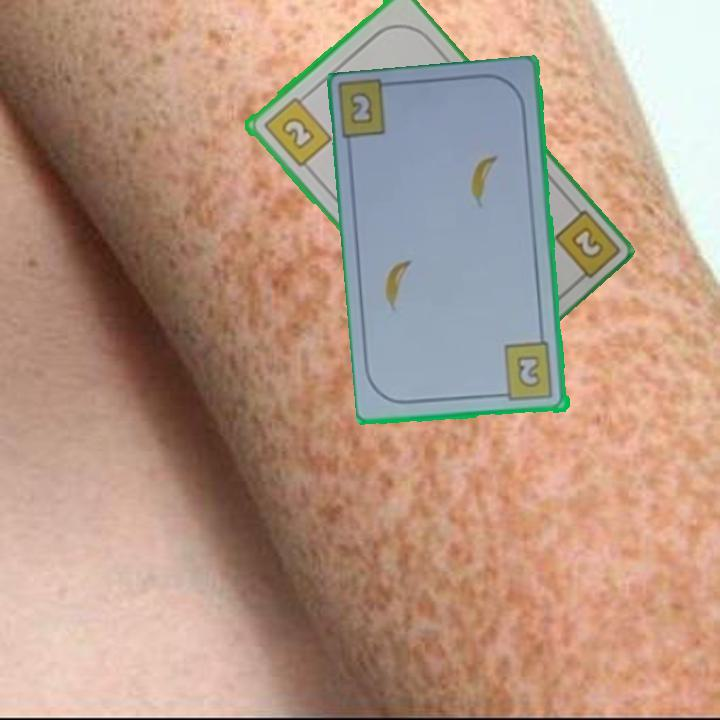2b: (259, 91, 334, 170), (495, 340, 557, 404), (567, 223, 606, 262), (350, 92, 374, 124)
